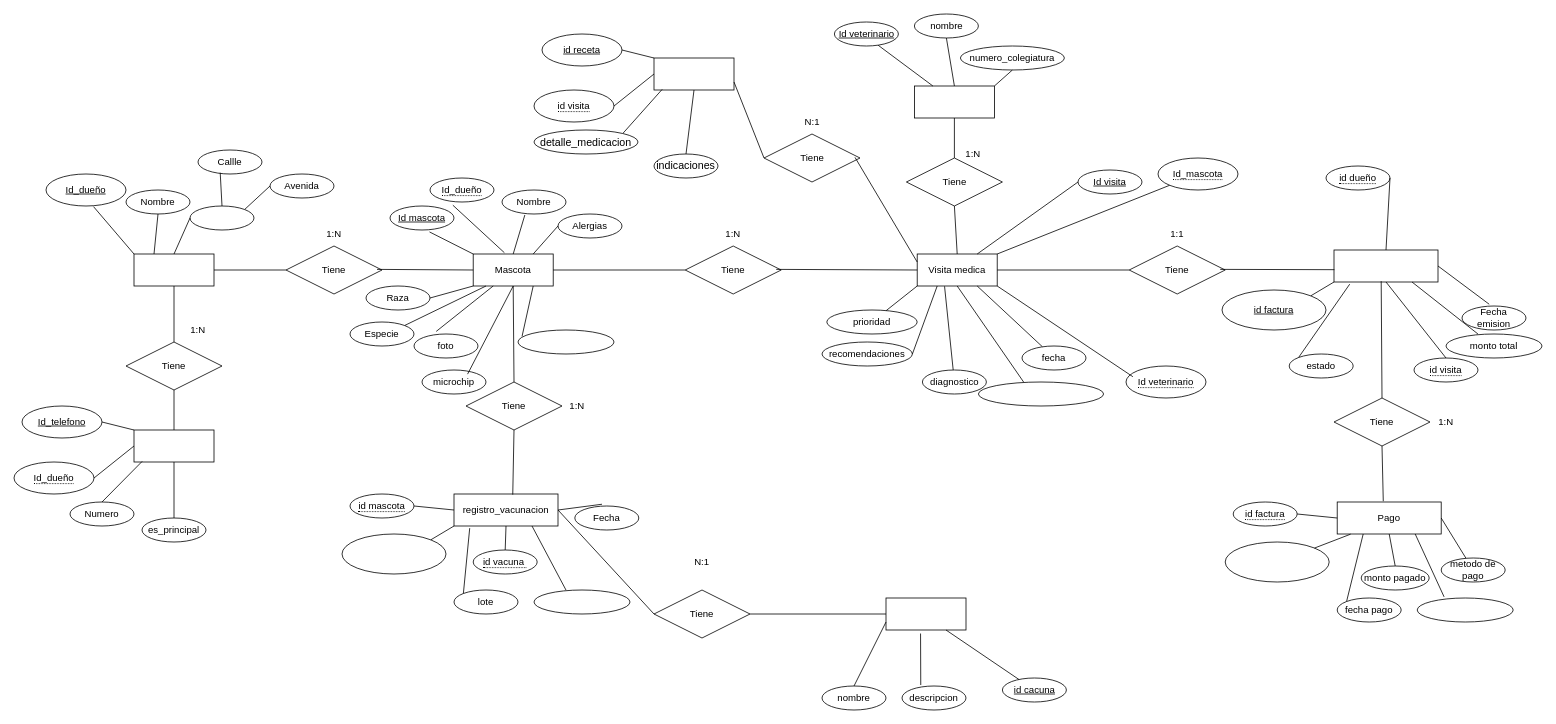
Image size: 1556x724. Some labels were removed from this diagram. The shapes that lost their labels are listed below. From the top down, each one's centre as x and y in pixels, then its label:
At (x=693, y=73): "Receta".
At (x=954, y=101): "Veterinario".
At (x=221, y=217): "Direccion".
At (x=173, y=269): "Dueño".
At (x=1385, y=265): "Factura".
At (x=565, y=341): "operaciones_previas".
At (x=1041, y=393): "observscion_urgente".
At (x=173, y=445): "Telefono".
At (x=393, y=553): "id_registro_vacuna".
At (x=1276, y=561): "id pago".
At (x=581, y=601): "Fecha_refuerzo".
At (x=925, y=613): "Vacuna".
At (x=1464, y=609): "saldo restante".
